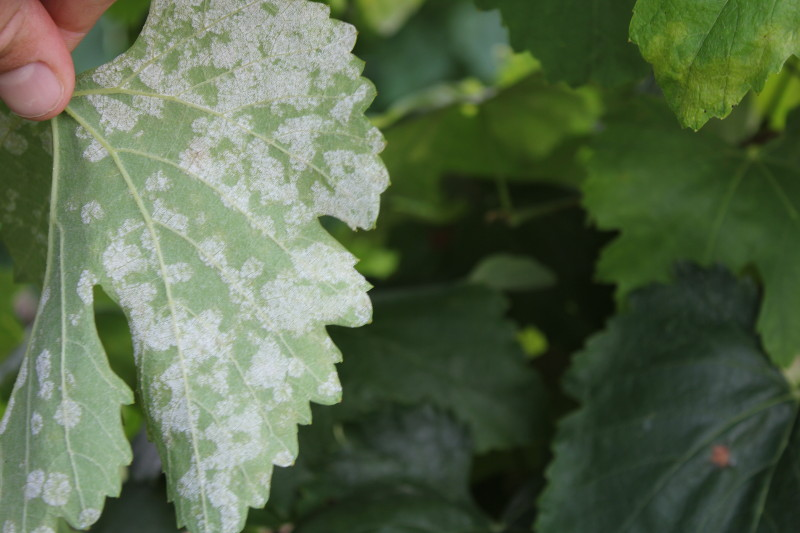downy: (152, 2, 375, 225), (145, 231, 373, 329), (141, 337, 309, 416), (158, 420, 296, 470), (98, 62, 145, 167), (172, 473, 245, 533), (102, 235, 146, 284), (21, 467, 76, 504), (52, 397, 90, 437), (31, 348, 58, 399), (76, 191, 106, 229), (70, 265, 97, 307), (315, 370, 339, 399), (75, 505, 99, 525), (43, 283, 56, 316), (5, 520, 23, 533), (34, 525, 50, 533)
